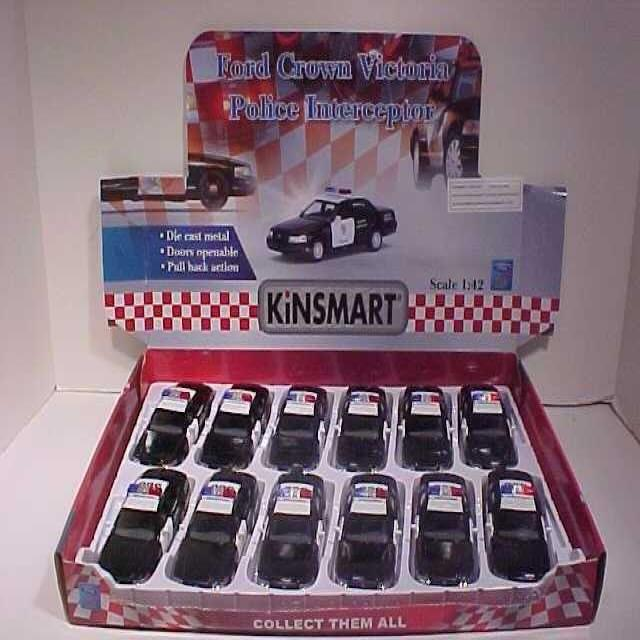firetruck: (189, 472, 259, 577), (486, 467, 551, 576), (263, 477, 326, 587), (344, 478, 403, 594), (209, 383, 280, 474), (417, 481, 474, 588), (135, 383, 211, 463), (126, 472, 170, 589), (276, 388, 330, 473), (459, 394, 516, 466), (403, 387, 447, 471), (342, 392, 381, 471)
